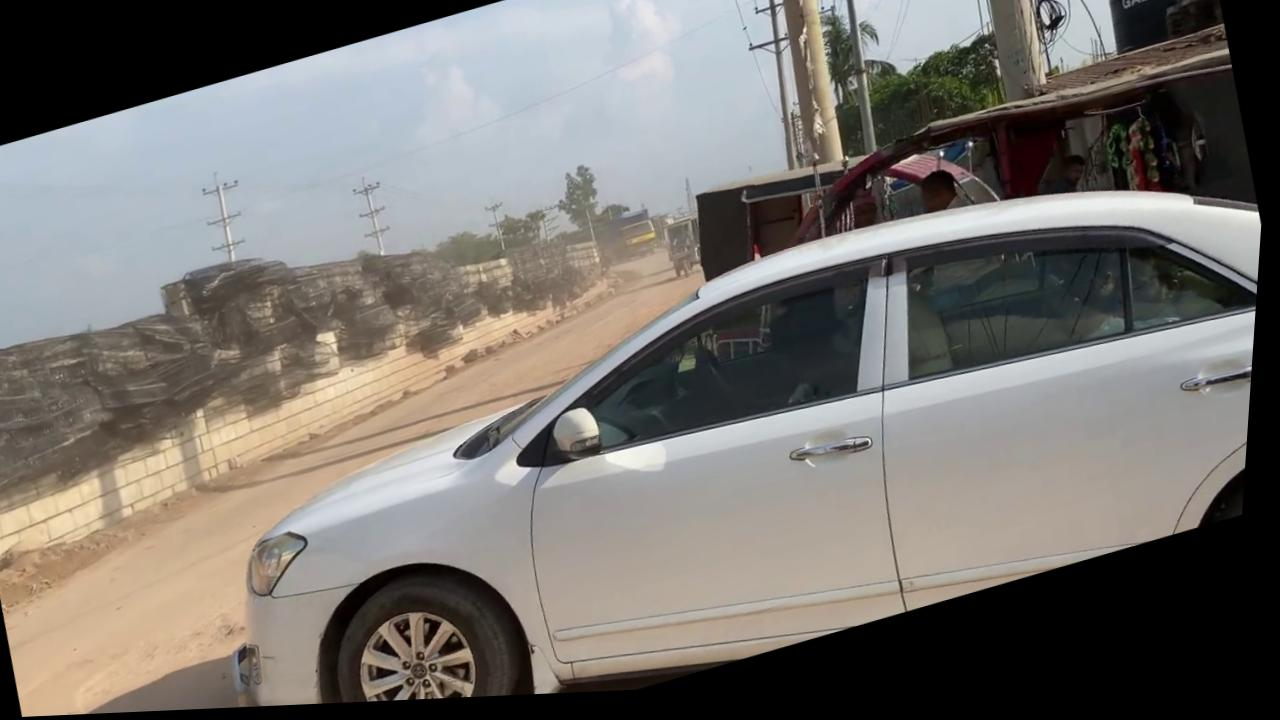Car: (174, 122, 1271, 713)
Muddy road: (0, 234, 817, 720)
Pole: (747, 0, 862, 183), (794, 0, 909, 170), (945, 0, 1058, 116)
Traffic-sign: (810, 3, 896, 119), (549, 165, 615, 256)
Tree: (678, 24, 1272, 370), (602, 208, 666, 273), (661, 218, 713, 287)
Upstairs: (0, 164, 646, 568)
